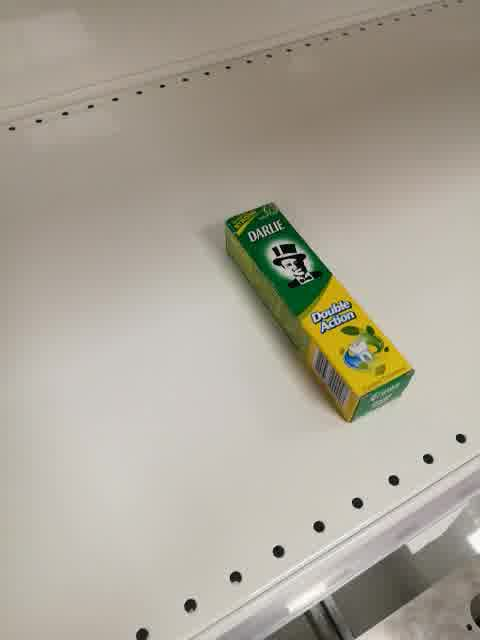toothpaste: (222, 200, 417, 426)
